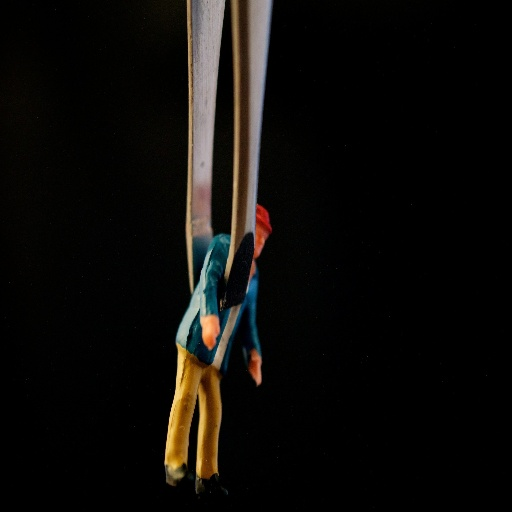hand: (200, 312, 218, 349), (248, 350, 262, 387)
